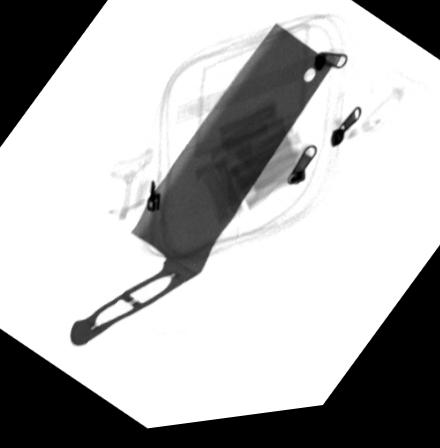Knife: (67, 29, 334, 351)
